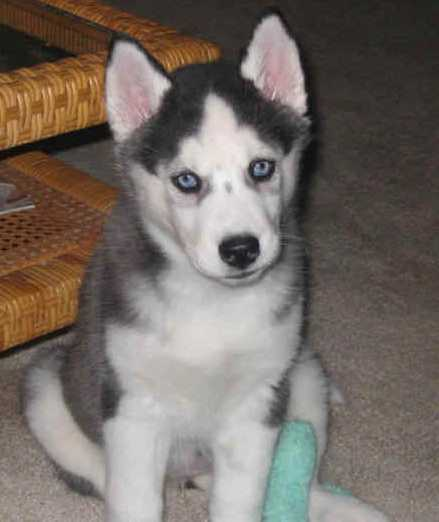dog: (19, 10, 330, 520)
